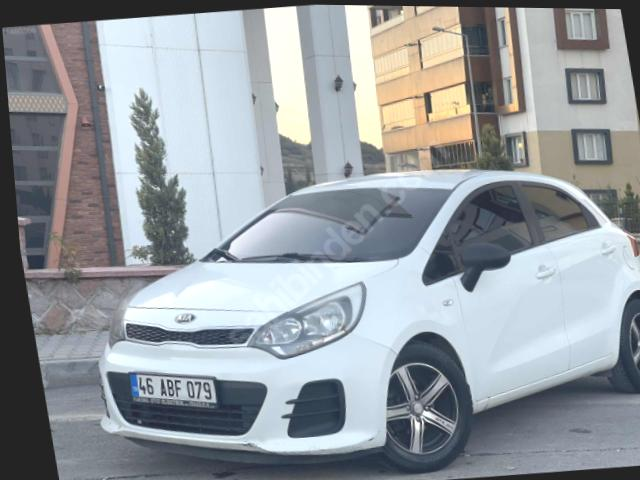plaka: (129, 373, 216, 407)
